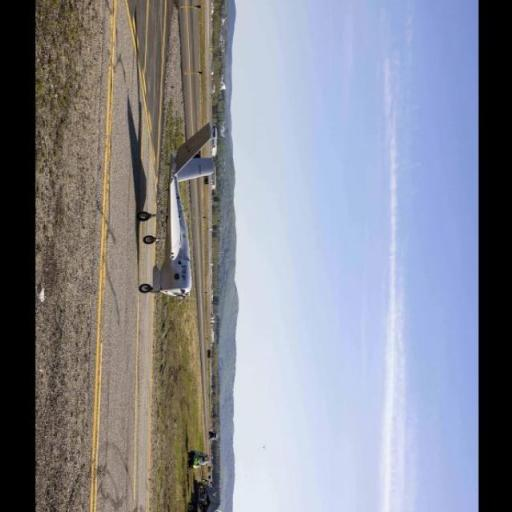uav: (132, 120, 226, 306)
